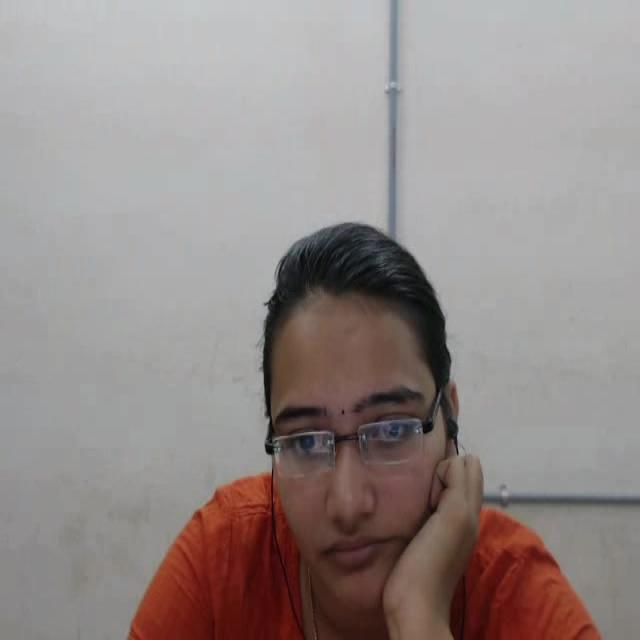Bored: (216, 189, 466, 623)
